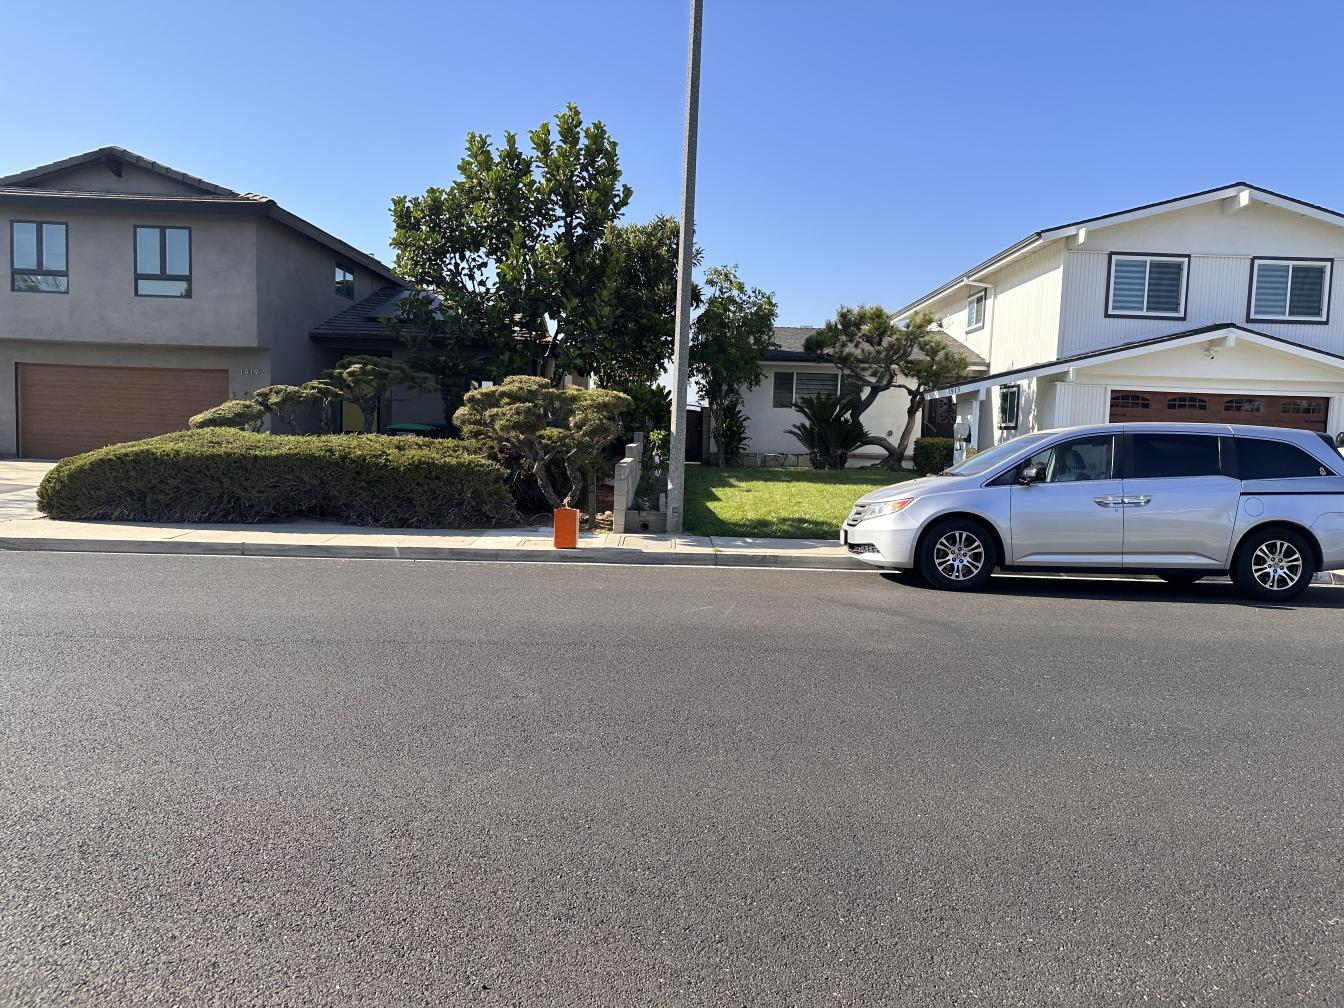curbs-laRr: (0, 532, 550, 565), (557, 544, 847, 573)
orange box: (553, 502, 582, 548)
